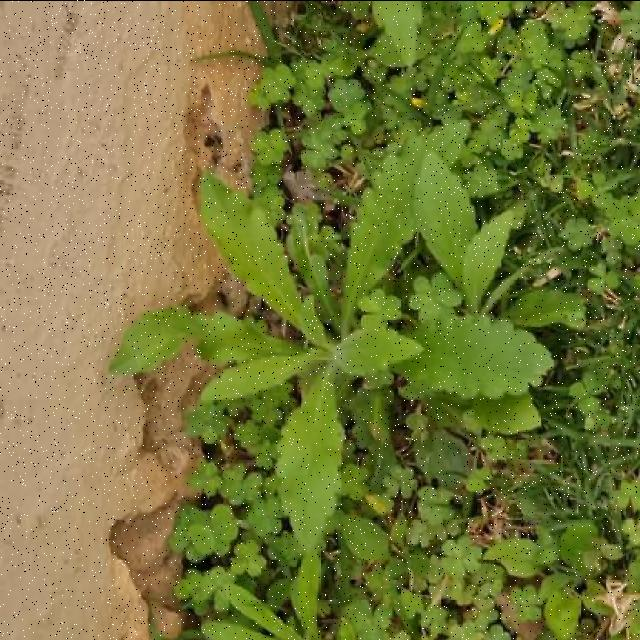weed: (111, 120, 585, 640)
